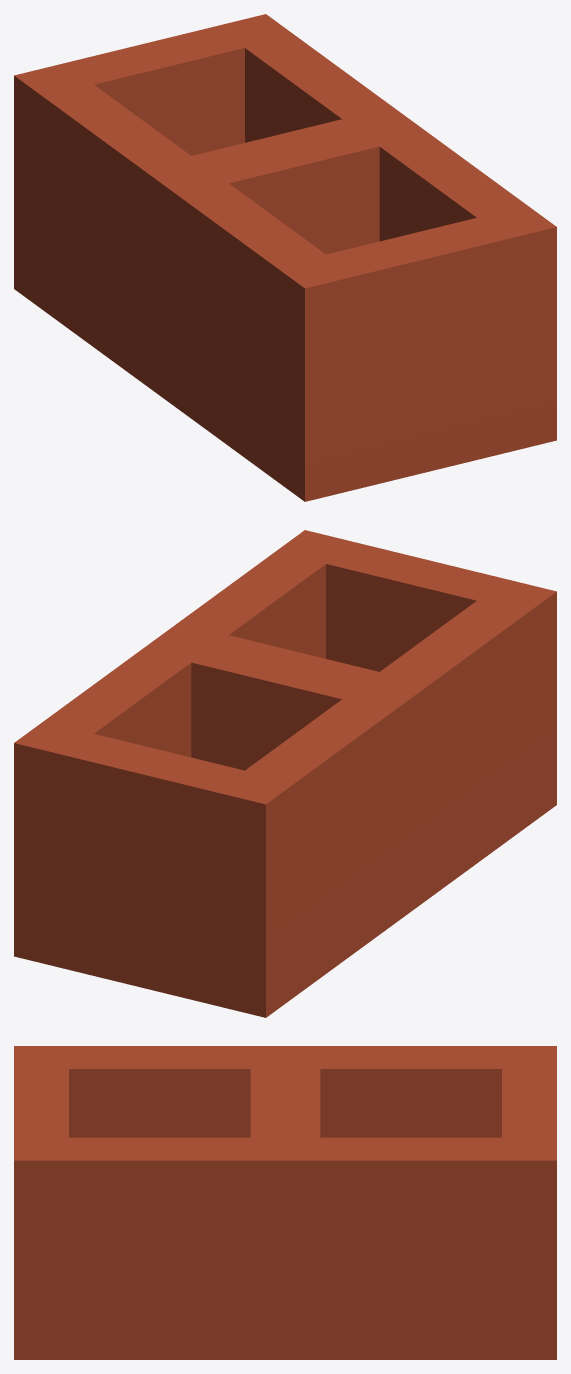
The model's file is Brick_1_4.fbx.
The picture shows the model from 3 angles, top to bottom: view 1: azimuth 30°, elevation 25°; view 2: azimuth 150°, elevation 25°; view 3: azimuth 270°, elevation 25°; orthographic projection. The views are drawn at different scales.
Parts seen in each view (by area): view 1: Brick_1_4; view 2: Brick_1_4; view 3: Brick_1_4.
Boxes of the visible parts, <box> form: Brick_1_4: <box>14,14,556,501</box>; Brick_1_4: <box>14,530,556,1017</box>; Brick_1_4: <box>14,1046,556,1359</box>.
Size of the model in its own units: 17.52 by 14.18 by 35.04.
